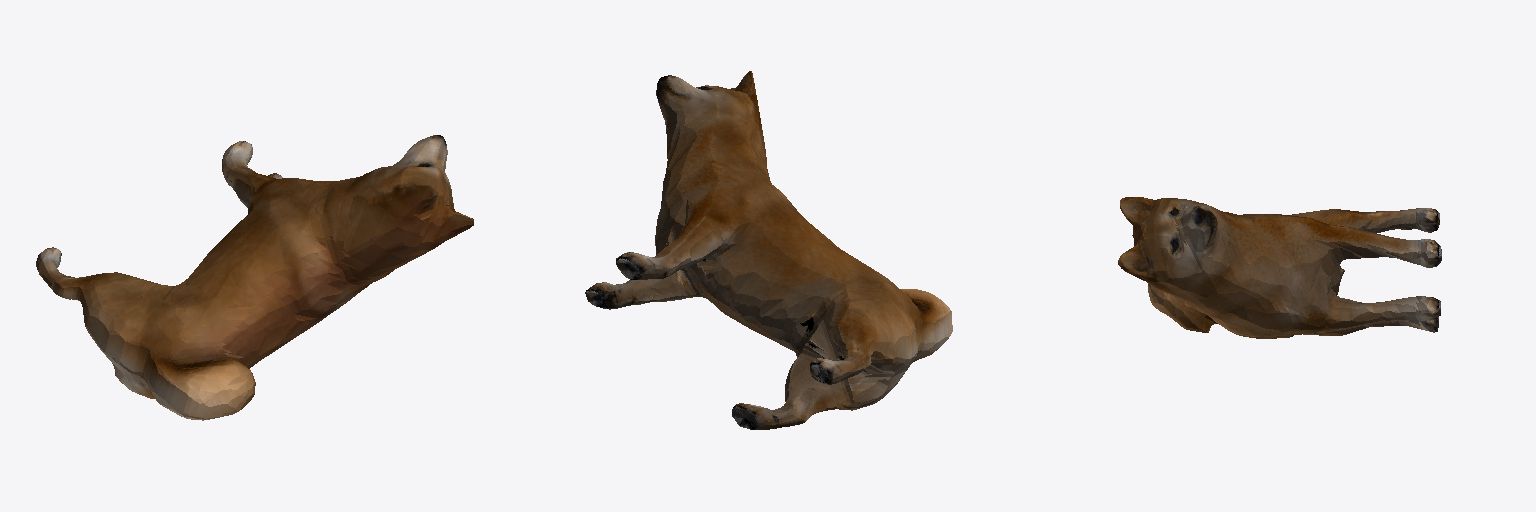
3 views of the same model, side by side, from view 1: azimuth 30°, elevation 25°; view 2: azimuth 150°, elevation 25°; view 3: azimuth 270°, elevation 25° (orthographic).
Bounding box in the file's own units: 0.5439 × 0.4018 × 0.5062.
Materials: 1 (1 with a texture image).